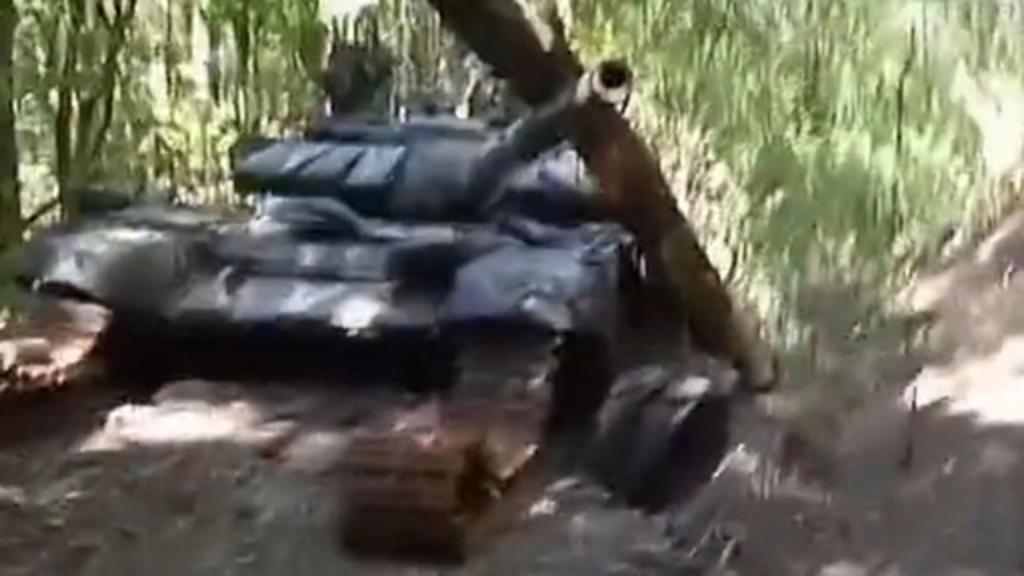TANK: (18, 54, 676, 420)
